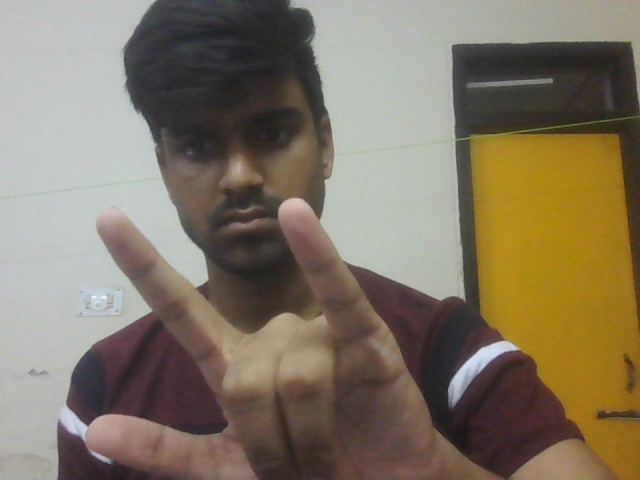iloveyou: (52, 192, 490, 480)
